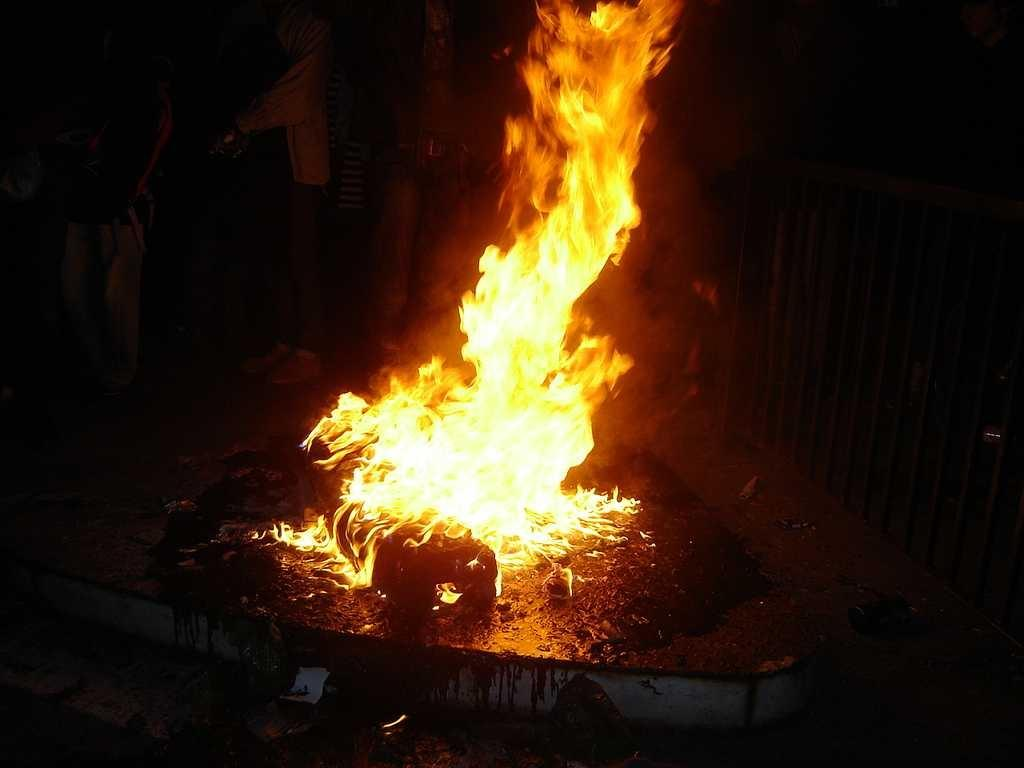fire: (360, 386, 572, 518), (538, 18, 640, 244), (462, 262, 586, 384)
